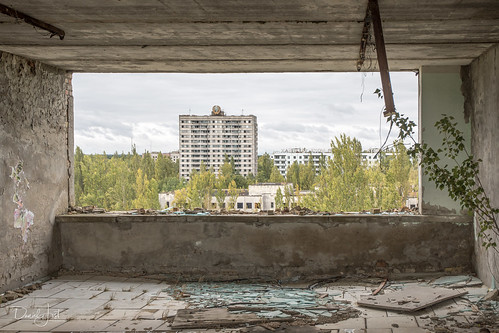building: (177, 108, 259, 186), (161, 176, 279, 213), (277, 147, 387, 183)
sky: (72, 72, 414, 143)
vegetation: (285, 157, 420, 214), (65, 152, 171, 210)
